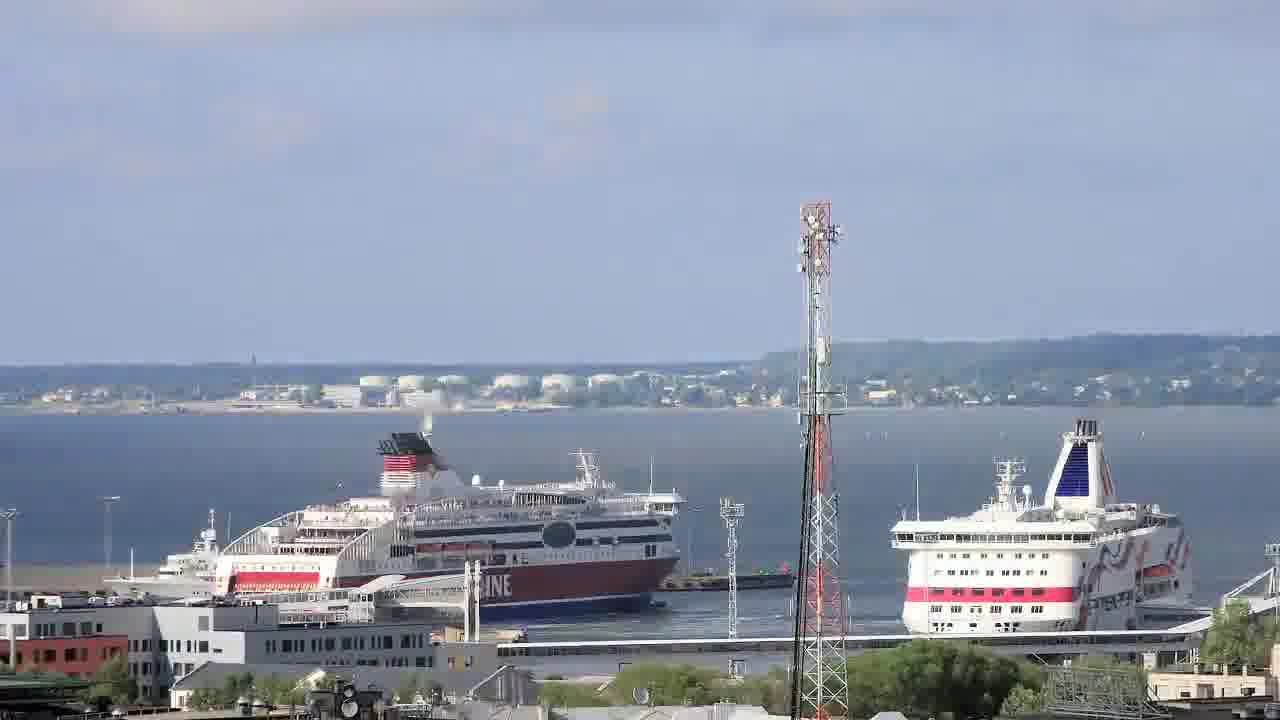type-2: (393, 382, 470, 454)
type-3: (232, 431, 692, 625), (868, 415, 1225, 638), (89, 517, 228, 613)
